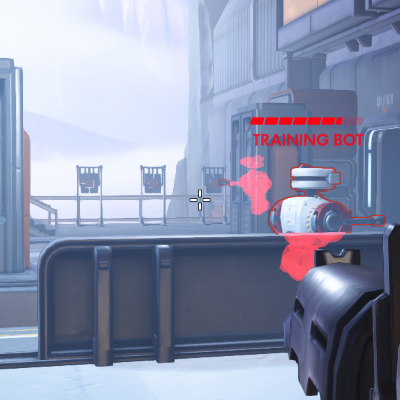hpbar: (250, 116, 364, 125)
